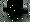person: (4, 4, 10, 16), (23, 4, 29, 15)
